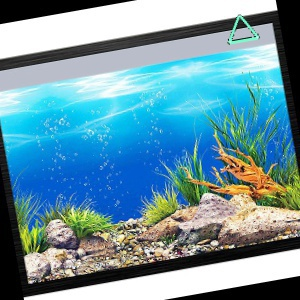triangle: (226, 14, 261, 45)
